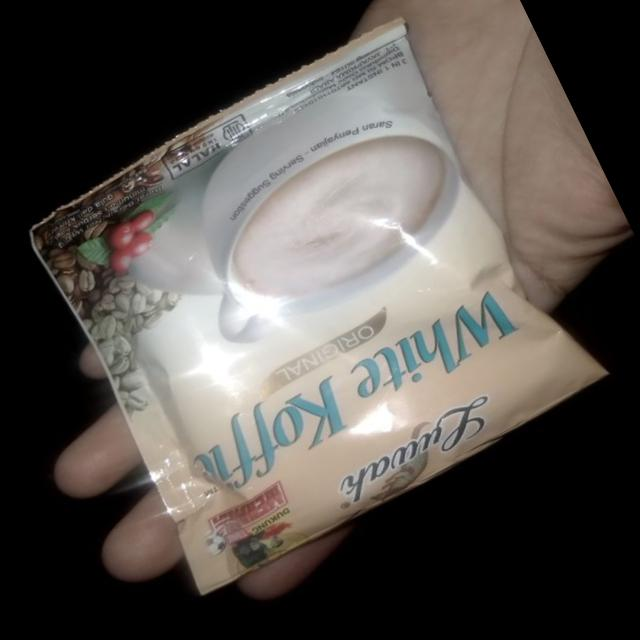KemasanPlastik: (8, 0, 622, 597)
